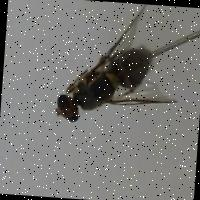Oriental-fruit-fly: (54, 16, 172, 132)
